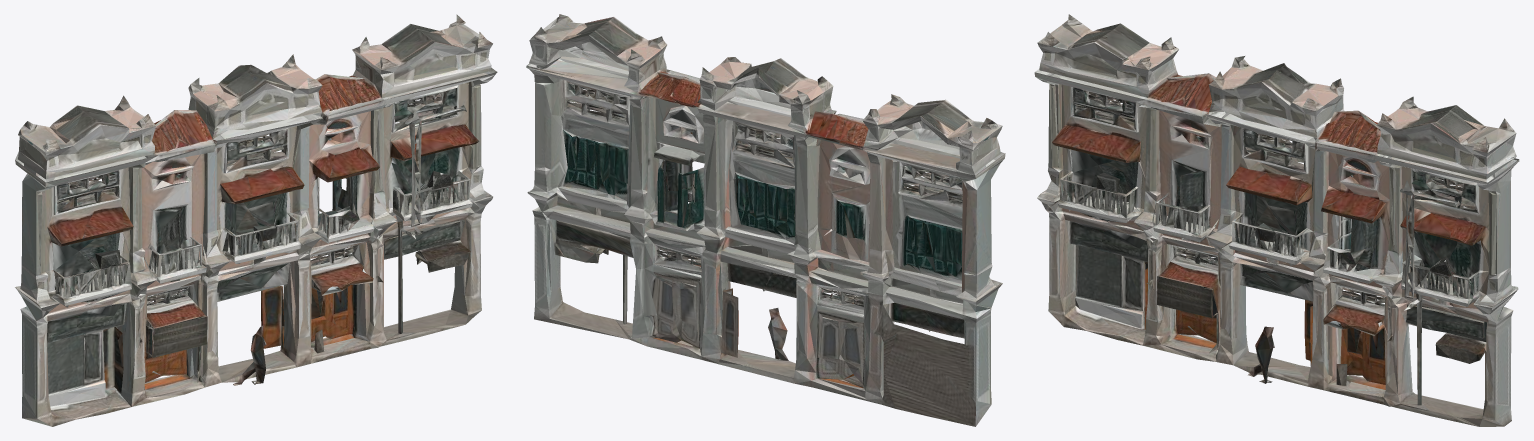
Rendered from shophouse_row.glb.
The picture shows the model from 3 angles, left to right: view 1: azimuth 30°, elevation 25°; view 2: azimuth 150°, elevation 25°; view 3: azimuth 330°, elevation 25°; orthographic projection.
Parts seen in each view (by area): view 1: m; view 2: m; view 3: m.
Boxes of the visible parts, x1,y1,x2,y2 form: m: (15, 14, 497, 426); m: (526, 14, 1005, 426); m: (1034, 14, 1519, 426).
Size of the model in its own units: 18.46 by 12 by 2.34.
Materials: 1 (1 with a texture image).
